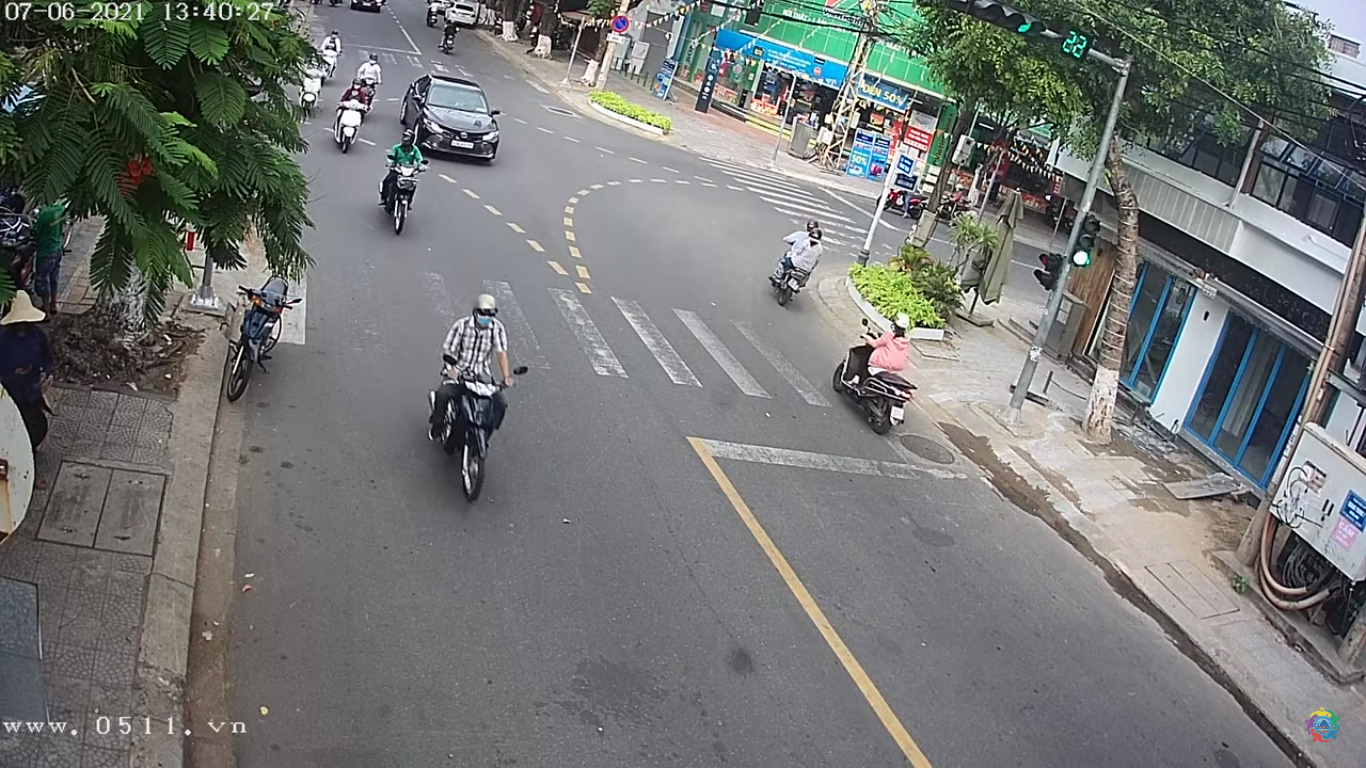car: (400, 69, 504, 168)
